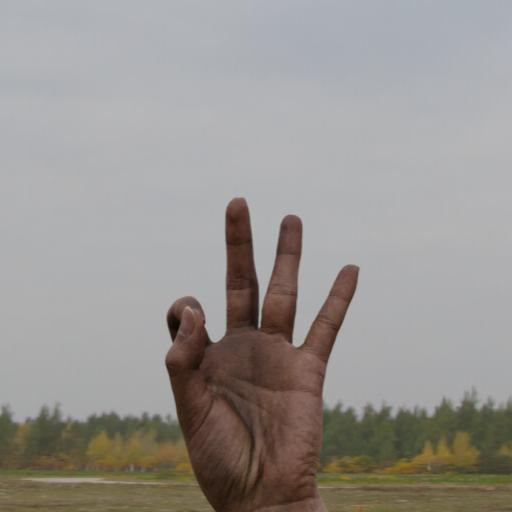F: (148, 187, 378, 512)
